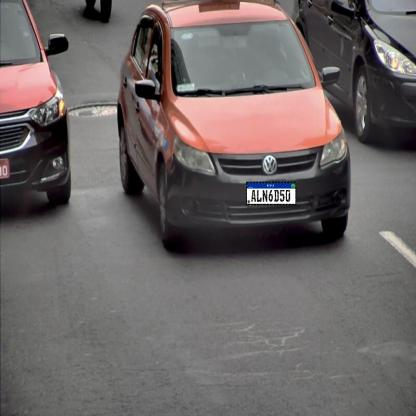PlacaM: (246, 182, 296, 205)
